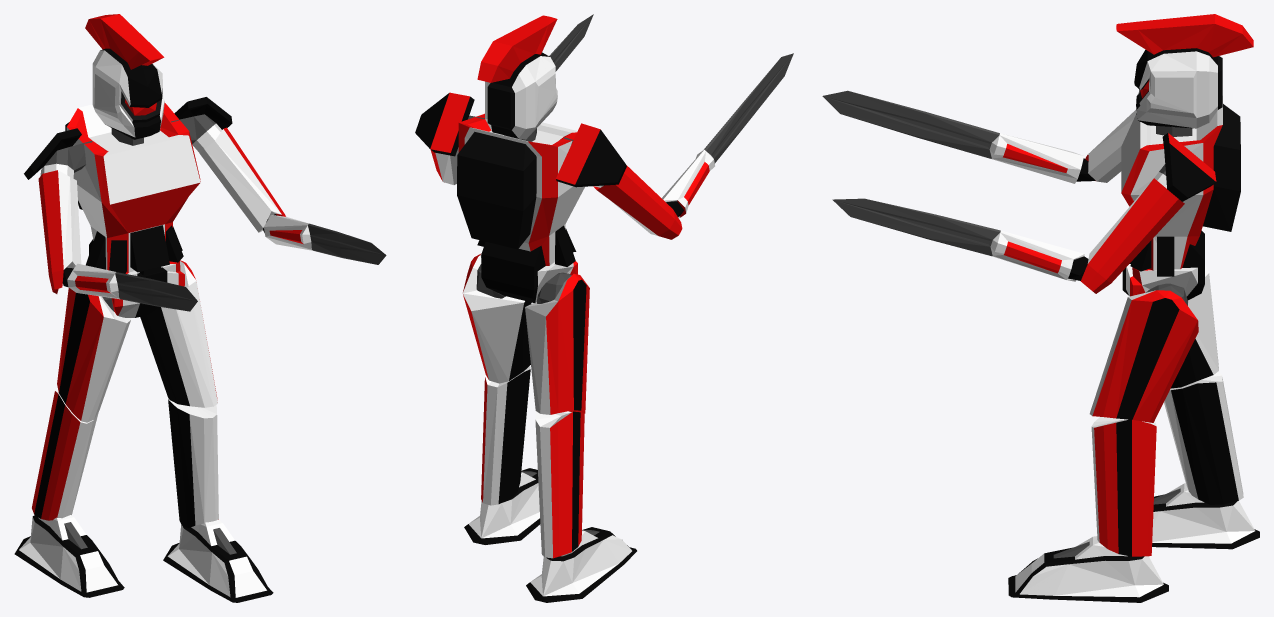
Rendered from robots_000013.obj.
3 renders of one model, left to right at view 1: azimuth 30°, elevation 25°; view 2: azimuth 150°, elevation 25°; view 3: azimuth 270°, elevation 25°, orthographic. The views are drawn at different scales.
Visible parts, largest first — view 1: Chest_plate_Cube.004, Head_gladiator_Cube.024, R_Forearm.001_Cube.028, R_Forearm.002_Cube.033, R_Thigh_Cube.005, R_Thigh.002_Cube.027, R_Shin.002_Cube.029, R_Foot_Cube, R_Foot.002_Cube.035, R_Shin_Cube.007, R_Arm.003_Cube.034, R_Arm.002_Cube.032 (+1 smaller); view 2: Chest_plate_Cube.004, Head_gladiator_Cube.024, R_Thigh_Cube.005, R_Shin_Cube.007, R_Forearm.001_Cube.028, R_Shin.002_Cube.029, R_Thigh.002_Cube.027, R_Foot_Cube, Pelvis_Cube.006, R_Foot.002_Cube.035, R_Arm.002_Cube.032, R_Arm.003_Cube.034 (+2 smaller); view 3: R_Forearm.002_Cube.033, Head_gladiator_Cube.024, Chest_plate_Cube.004, R_Thigh.002_Cube.027, R_Forearm.001_Cube.028, R_Shin.002_Cube.029, R_Shin_Cube.007, R_Foot.002_Cube.035, R_Foot_Cube, R_Thigh_Cube.005, R_Arm.003_Cube.034, Pelvis_Cube.006.
Part boxes in pixels (<box>): Chest_plate_Cube.004: <box>65,103,200,273</box>; Head_gladiator_Cube.024: <box>85,14,164,139</box>; R_Forearm.001_Cube.028: <box>38,170,197,311</box>; R_Forearm.002_Cube.033: <box>199,127,386,264</box>; R_Thigh_Cube.005: <box>57,288,131,422</box>; R_Thigh.002_Cube.027: <box>140,260,217,407</box>; R_Shin.002_Cube.029: <box>168,398,218,528</box>; R_Foot_Cube: <box>14,515,124,597</box>; R_Foot.002_Cube.035: <box>163,519,273,602</box>; R_Shin_Cube.007: <box>32,391,98,520</box>; R_Arm.003_Cube.034: <box>171,97,232,152</box>; R_Arm.002_Cube.032: <box>24,128,92,179</box>; Chest_plate_Cube.004: <box>457,113,584,266</box>; Head_gladiator_Cube.024: <box>477,15,557,139</box>; R_Thigh_Cube.005: <box>525,273,589,414</box>; R_Shin_Cube.007: <box>535,411,584,558</box>; R_Forearm.001_Cube.028: <box>593,53,793,239</box>; R_Shin.002_Cube.029: <box>481,366,530,505</box>; R_Thigh.002_Cube.027: <box>462,254,531,383</box>; R_Foot_Cube: <box>526,527,636,602</box>; Pelvis_Cube.006: <box>480,242,577,303</box>; R_Foot.002_Cube.035: <box>464,468,540,544</box>; R_Arm.002_Cube.032: <box>556,123,626,187</box>; R_Arm.003_Cube.034: <box>415,92,484,156</box>; R_Forearm.002_Cube.033: <box>832,178,1184,293</box>; Head_gladiator_Cube.024: <box>1116,14,1253,128</box>; Chest_plate_Cube.004: <box>1121,96,1240,276</box>; R_Thigh.002_Cube.027: <box>1089,290,1198,422</box>; R_Forearm.001_Cube.028: <box>822,90,1136,183</box>; R_Shin.002_Cube.029: <box>1091,417,1156,556</box>; R_Shin_Cube.007: <box>1164,371,1243,504</box>; R_Foot.002_Cube.035: <box>1008,536,1168,602</box>; R_Foot_Cube: <box>1152,483,1259,549</box>; R_Thigh_Cube.005: <box>1170,265,1218,388</box>; R_Arm.003_Cube.034: <box>1154,133,1216,201</box>; Pelvis_Cube.006: <box>1122,230,1204,300</box>.
Bounding box in the file's own units: 1.51 × 3.17 × 2.3.
